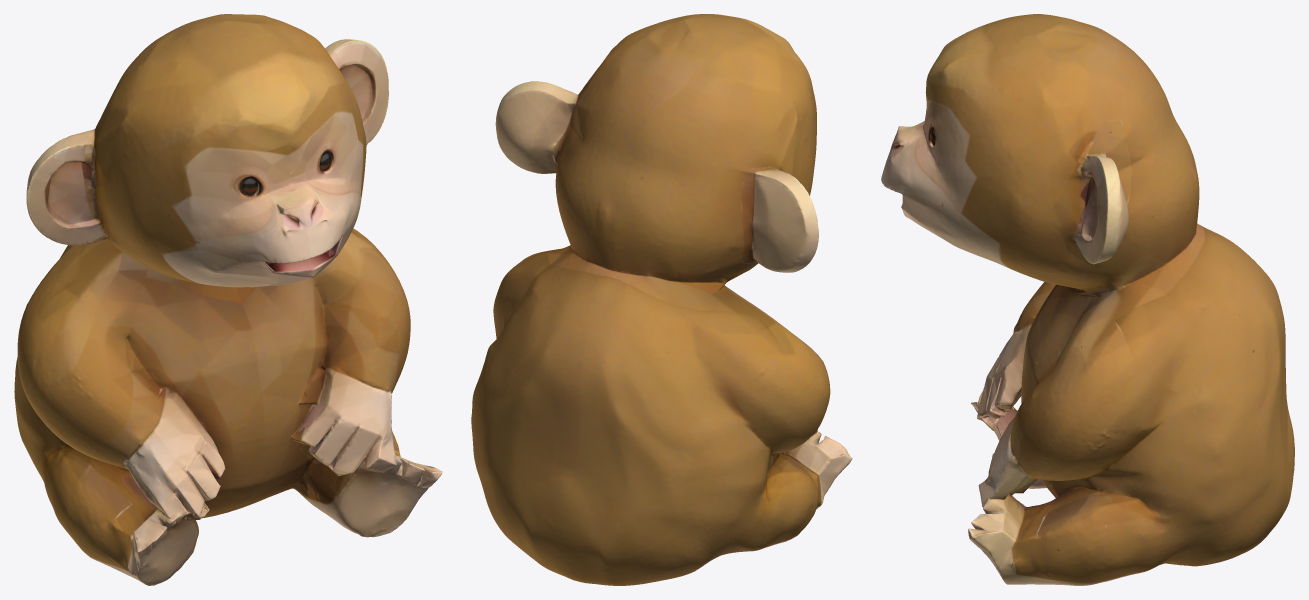
Rendered from Playful_Monkey_1009023702_texture.fbx.
3 views of the same model, side by side, from view 1: azimuth 30°, elevation 25°; view 2: azimuth 150°, elevation 25°; view 3: azimuth 270°, elevation 25° (orthographic). The views are drawn at different scales.
Parts seen in each view (by area): view 1: input; view 2: input; view 3: input.
Boxes of the visible parts, left/top/right/bottom form: input: left=14, top=14, right=442, bottom=585; input: left=471, top=14, right=852, bottom=585; input: left=881, top=14, right=1294, bottom=585.
Size of the model in its own units: 133 by 190 by 141.
Materials: 1 (1 with a texture image).
